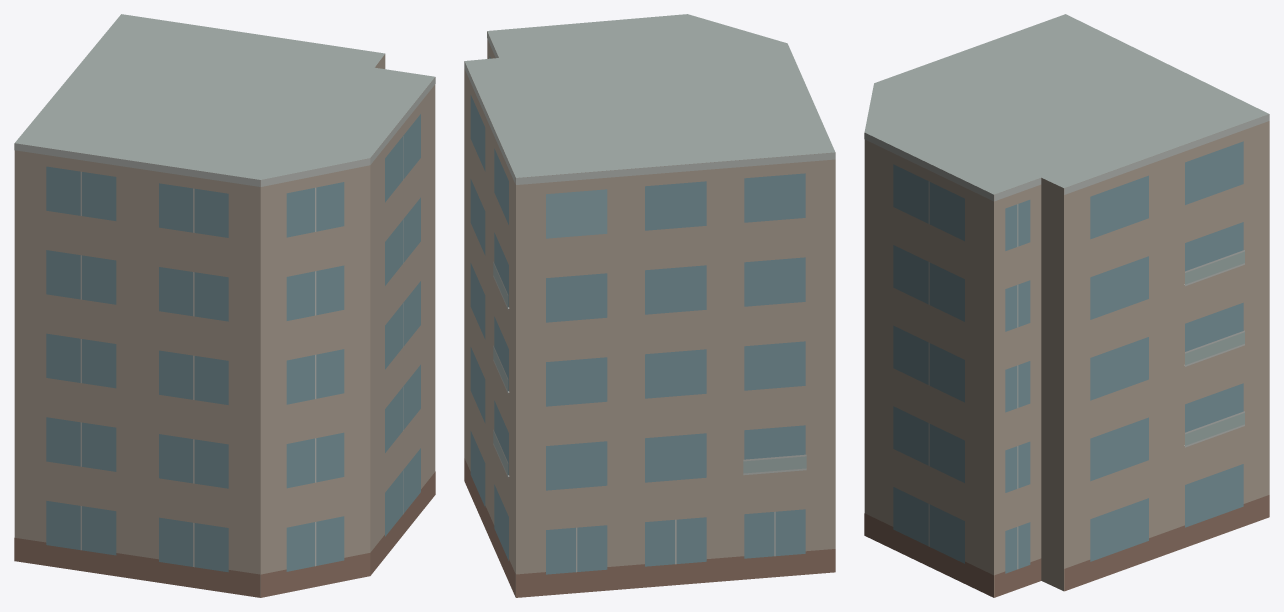
Rendered from survey-upis-32627147.glb.
The picture shows the model from 3 angles, left to right: view 1: azimuth 30°, elevation 25°; view 2: azimuth 150°, elevation 25°; view 3: azimuth 270°, elevation 25°; orthographic projection. The views are drawn at different scales.
Parts seen in each view (by area): view 1: survey-upis-32627147.tmp; view 2: survey-upis-32627147.tmp; view 3: survey-upis-32627147.tmp.
Boxes of the visible parts, x1,y1,x2,y2 form: survey-upis-32627147.tmp: (14, 14, 435, 597); survey-upis-32627147.tmp: (464, 14, 835, 597); survey-upis-32627147.tmp: (864, 14, 1269, 597).
Size of the model in its own units: 13.85 by 14.4 by 13.12.
